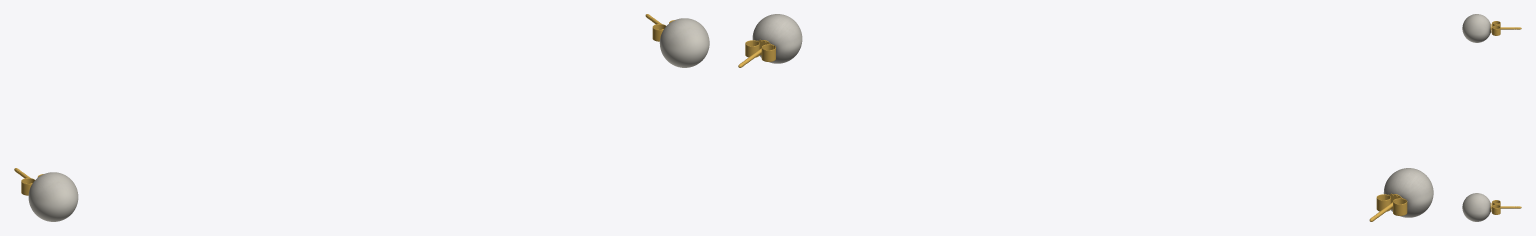
Rendered from sceneEdited2.glb.
The picture shows the model from 3 angles, left to right: view 1: azimuth 30°, elevation 25°; view 2: azimuth 150°, elevation 25°; view 3: azimuth 270°, elevation 25°; orthographic projection. The views are drawn at different scales.
Visible parts, largest first — view 1: 11757_Earings_v1_L2, 11757_Earings_v1_L2.001; view 2: 11757_Earings_v1_L2.001, 11757_Earings_v1_L2; view 3: 11757_Earings_v1_L2, 11757_Earings_v1_L2.001.
Boxes of the visible parts, bbox=[...] form: 11757_Earings_v1_L2: bbox=[645, 14, 709, 67]; 11757_Earings_v1_L2.001: bbox=[14, 168, 78, 221]; 11757_Earings_v1_L2.001: bbox=[1369, 168, 1433, 221]; 11757_Earings_v1_L2: bbox=[738, 14, 802, 67]; 11757_Earings_v1_L2: bbox=[1462, 193, 1521, 221]; 11757_Earings_v1_L2.001: bbox=[1462, 14, 1521, 42].
Bounding box in the file's own units: 17.64 × 1.13 × 2.31.
Materials: 2 (1 with a texture image).
